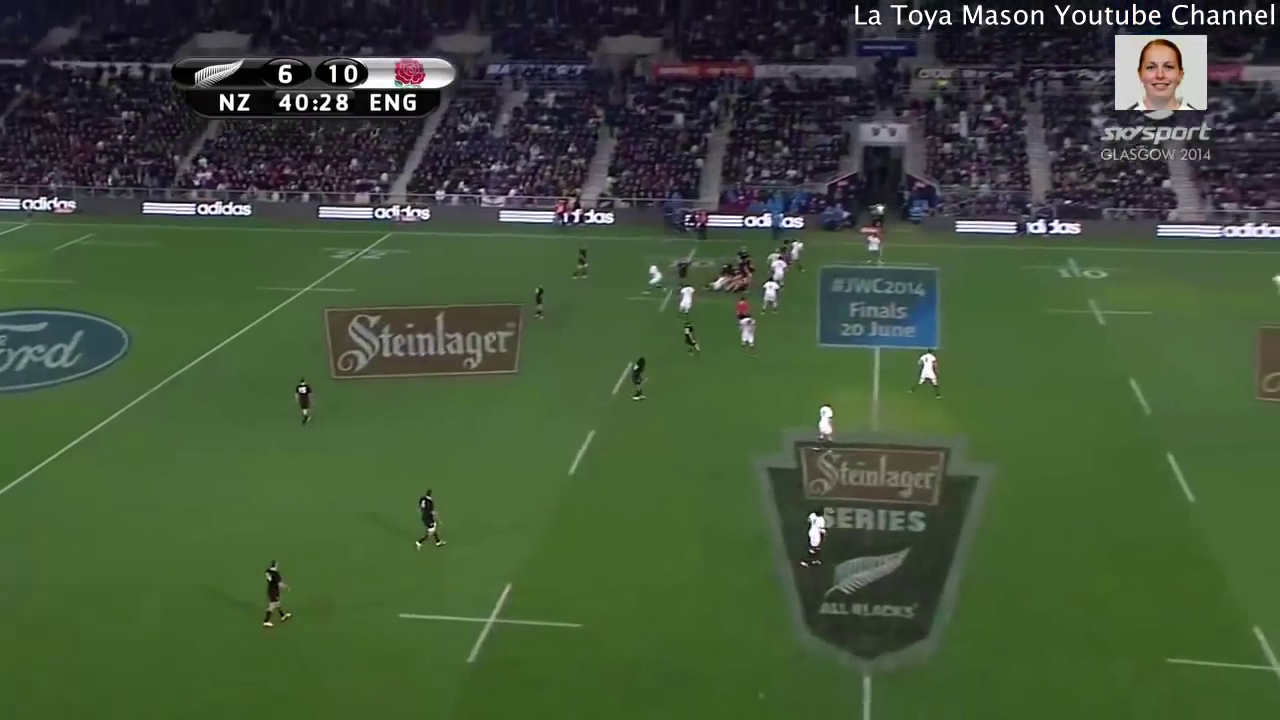10_metre: (395, 573, 590, 668), (1153, 620, 1280, 693), (1037, 295, 1157, 333), (1024, 253, 1127, 289)
player: (253, 556, 301, 640), (413, 485, 449, 551), (910, 342, 945, 407), (800, 505, 833, 572), (809, 397, 845, 452), (625, 349, 652, 408), (292, 373, 316, 426), (679, 320, 705, 361), (734, 312, 757, 356), (761, 278, 782, 321), (644, 261, 665, 299), (675, 280, 696, 317), (572, 242, 591, 282), (863, 229, 883, 265), (791, 235, 807, 279), (530, 284, 547, 321), (672, 257, 689, 285), (729, 296, 749, 318), (763, 245, 787, 263), (770, 258, 787, 282)
ruck: (705, 246, 756, 298)
